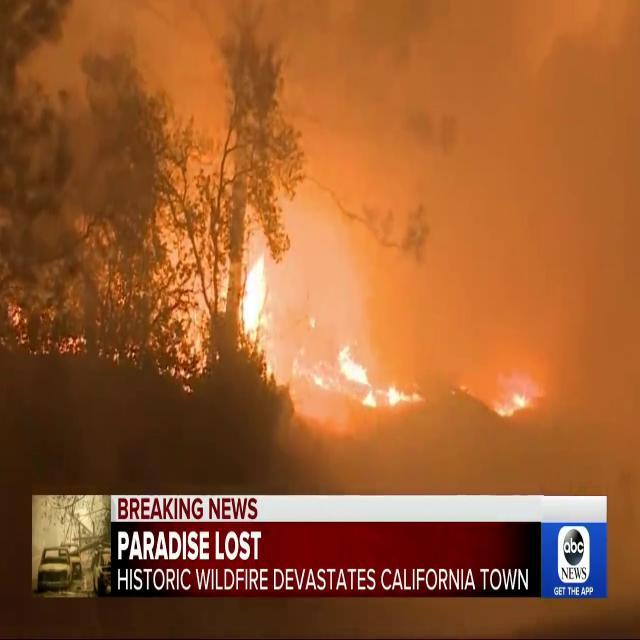Fire: (292, 338, 428, 410), (490, 372, 542, 422), (244, 249, 268, 352)
